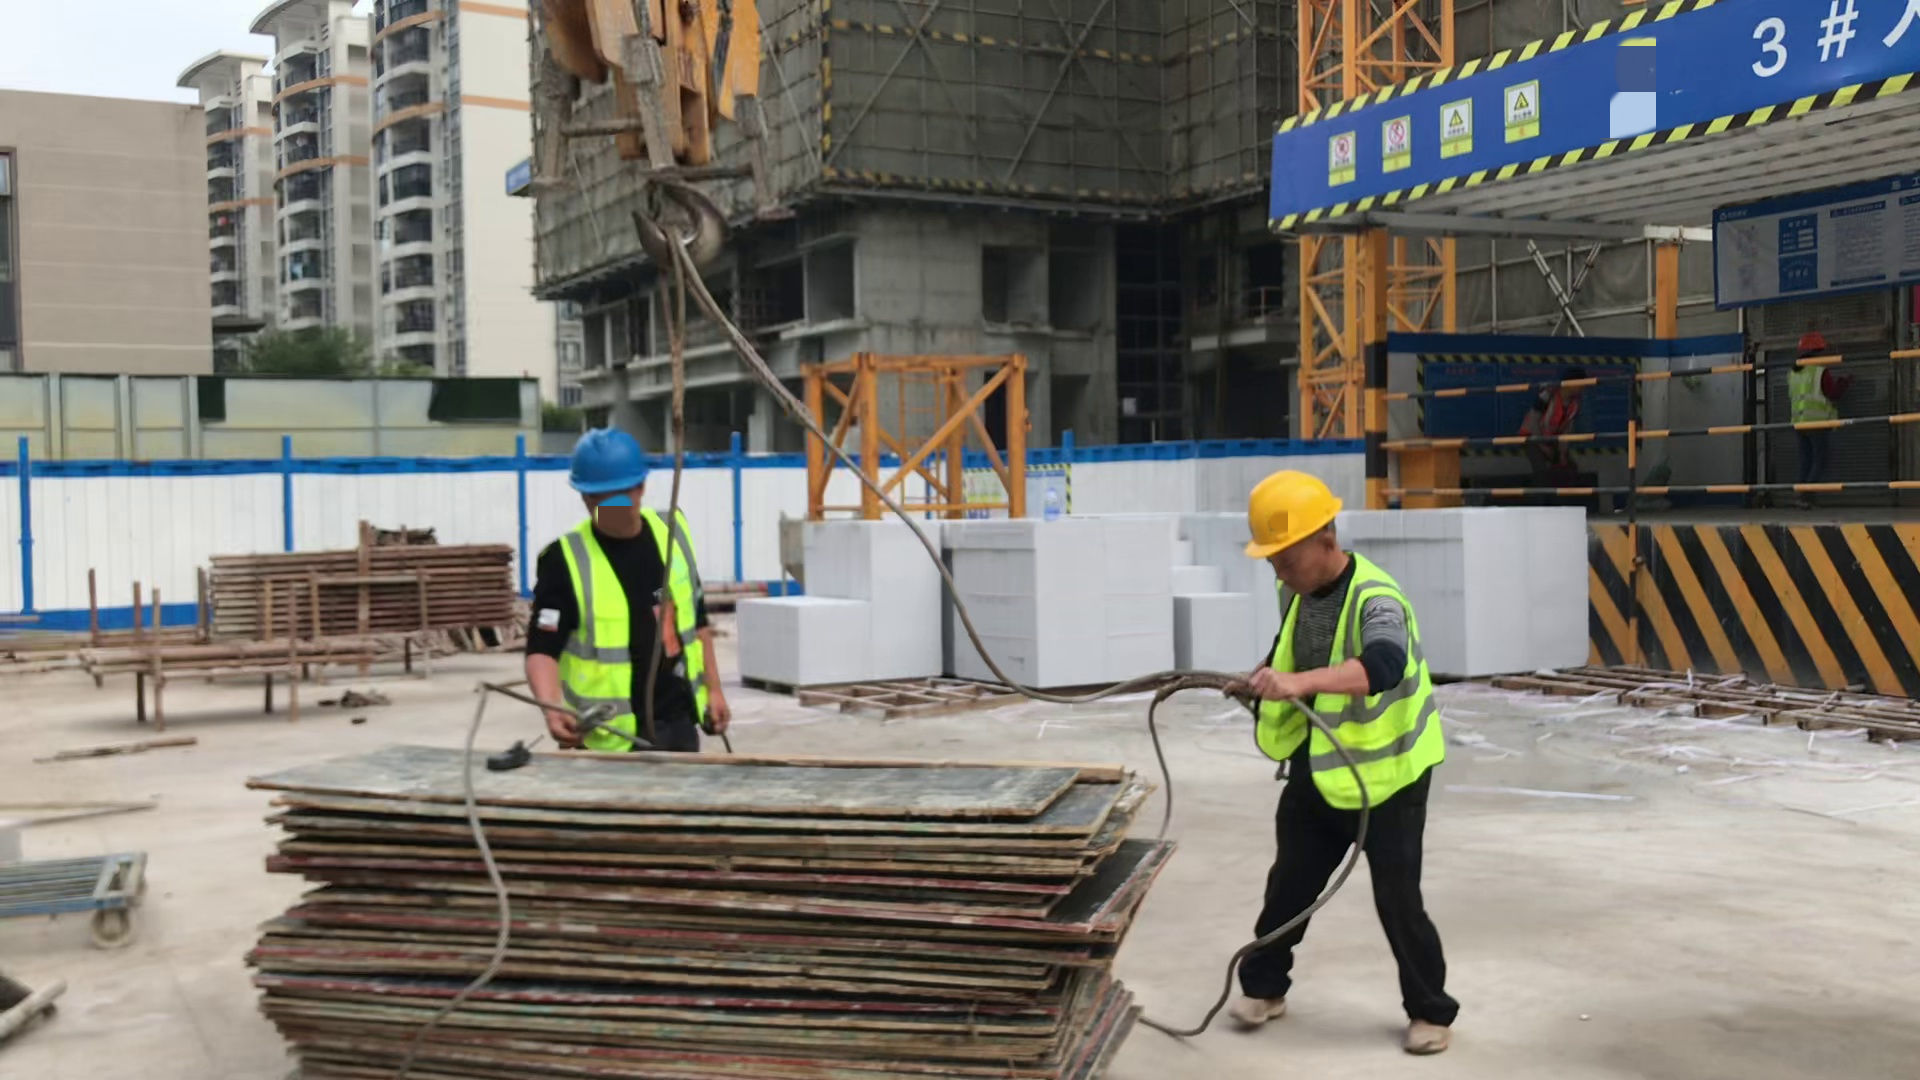board: (247, 728, 1177, 1080)
brick: (737, 508, 1592, 691)
helmet: (1244, 473, 1339, 557), (566, 428, 651, 495), (1796, 333, 1827, 351)
hook: (531, 2, 762, 272)
person: (1233, 468, 1459, 1060), (521, 428, 738, 752), (1778, 330, 1847, 483)
scaffold: (203, 539, 521, 646)
slogan: (1317, 76, 1541, 190)
vest: (1257, 558, 1443, 808), (555, 513, 706, 750), (1787, 361, 1838, 431)
